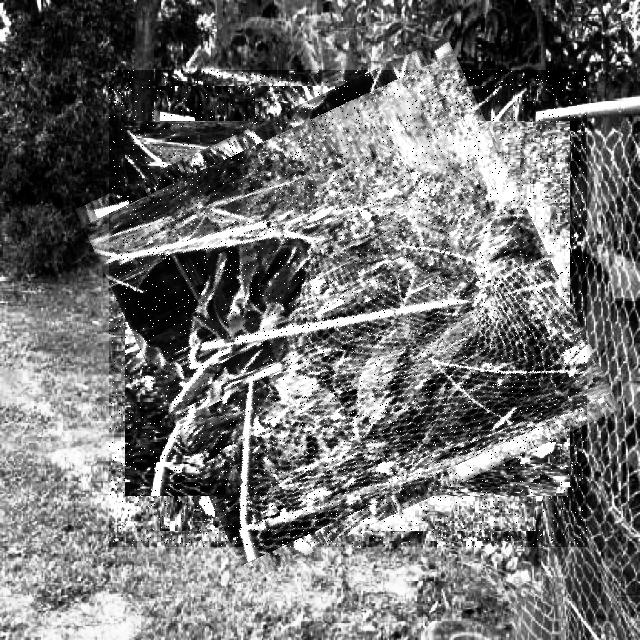anomaly-fence: (109, 70, 587, 547)
